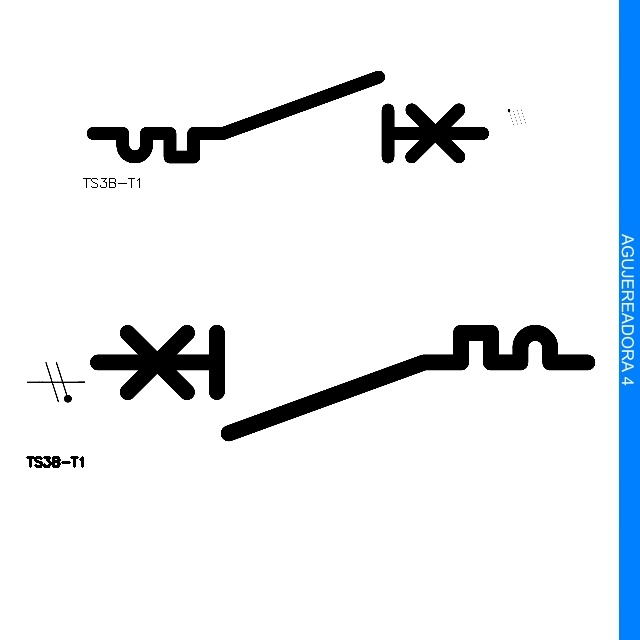interruptor_termomagnetico: (85, 320, 600, 446), (83, 67, 493, 167)
